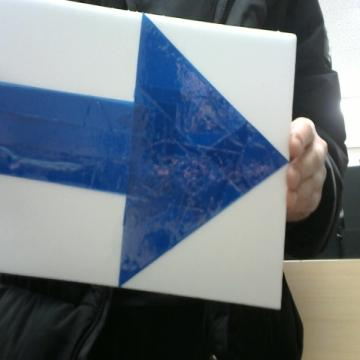blue_right: (1, 15, 287, 284)
